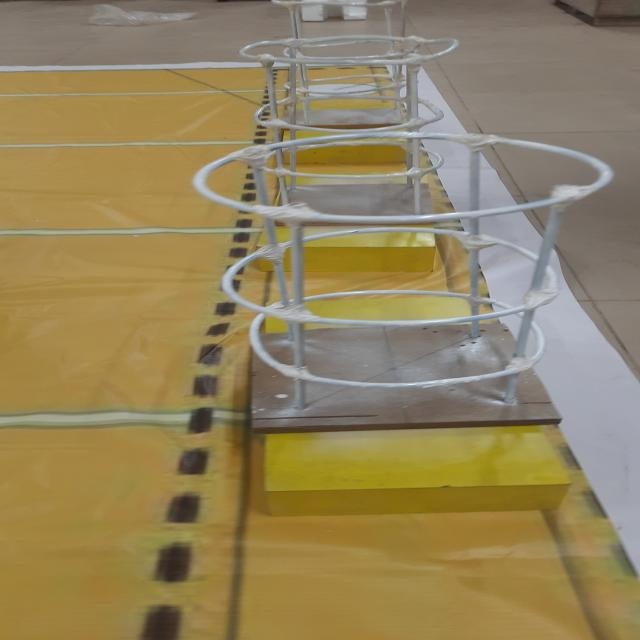silo: (171, 120, 631, 443), (208, 29, 490, 192)
